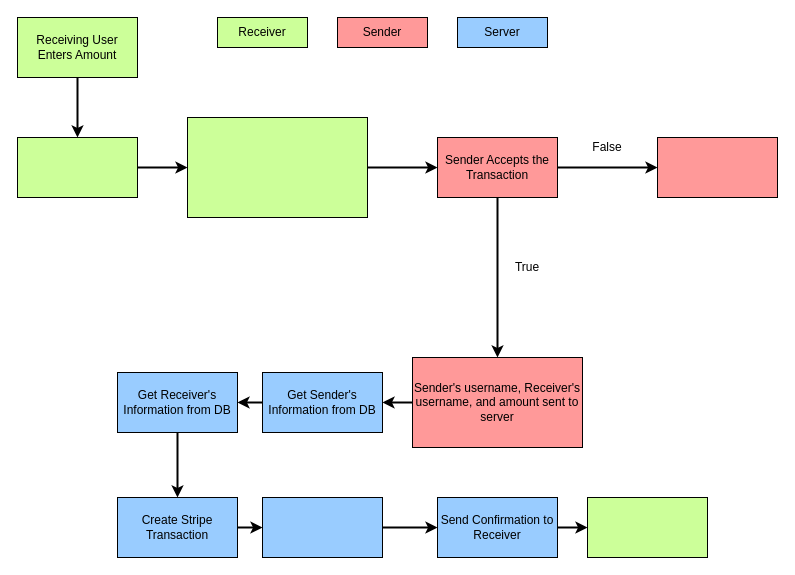
The diagram is 795 pixels wide and 575 high, and some of its shapes have lost their labels. Here are the shapes that lost their labels. From the top down, the box of each, then its label:
(16, 136, 138, 198): Users Tap Phones with NFC
(186, 116, 368, 218): Receiver's username, karma, and amount asked are sent to money sender.
(656, 136, 778, 198): Nothing Happens
(262, 496, 382, 558): Store Record of Transaction in DB
(586, 496, 708, 558): Receiver Can See Confirmation of Transaction
